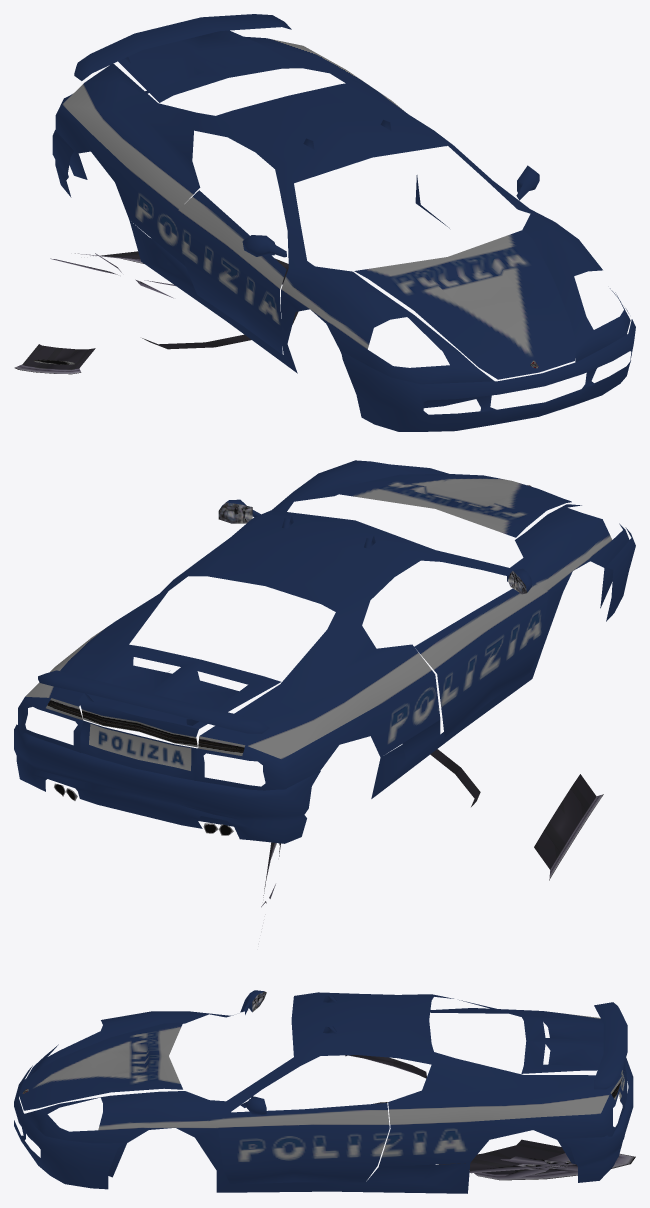
Rendered from car-SUPR_Car11.glb.
3 views of the same model, one above another, from view 1: azimuth 30°, elevation 25°; view 2: azimuth 150°, elevation 25°; view 3: azimuth 270°, elevation 25° (orthographic). The views are drawn at different scales.
Parts seen in each view (by area): view 1: SUPR_Car11; view 2: SUPR_Car11; view 3: SUPR_Car11.
Part boxes in pixels (x1,y1,x2,y2): SUPR_Car11: [14, 14, 635, 431]; SUPR_Car11: [14, 460, 635, 907]; SUPR_Car11: [14, 990, 635, 1193].
Size of the model in its own units: 2.98 by 1.69 by 4.71.
Materials: 10 (10 with a texture image).
